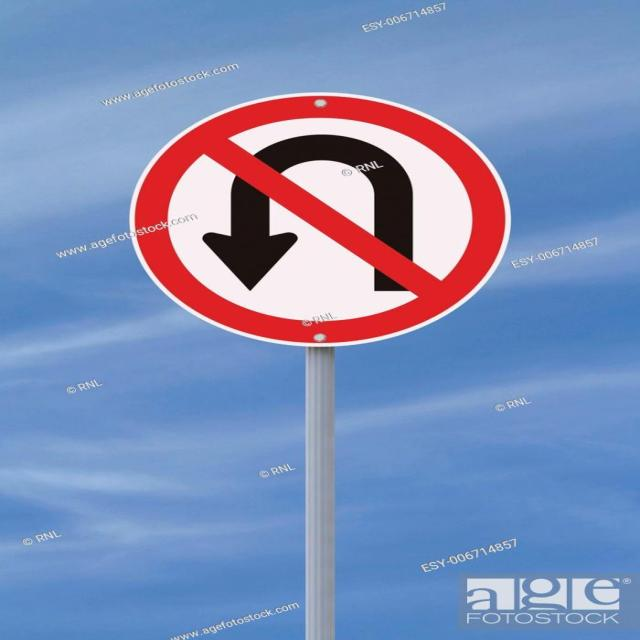Demi-Tour-Interdit: (154, 98, 477, 336)
